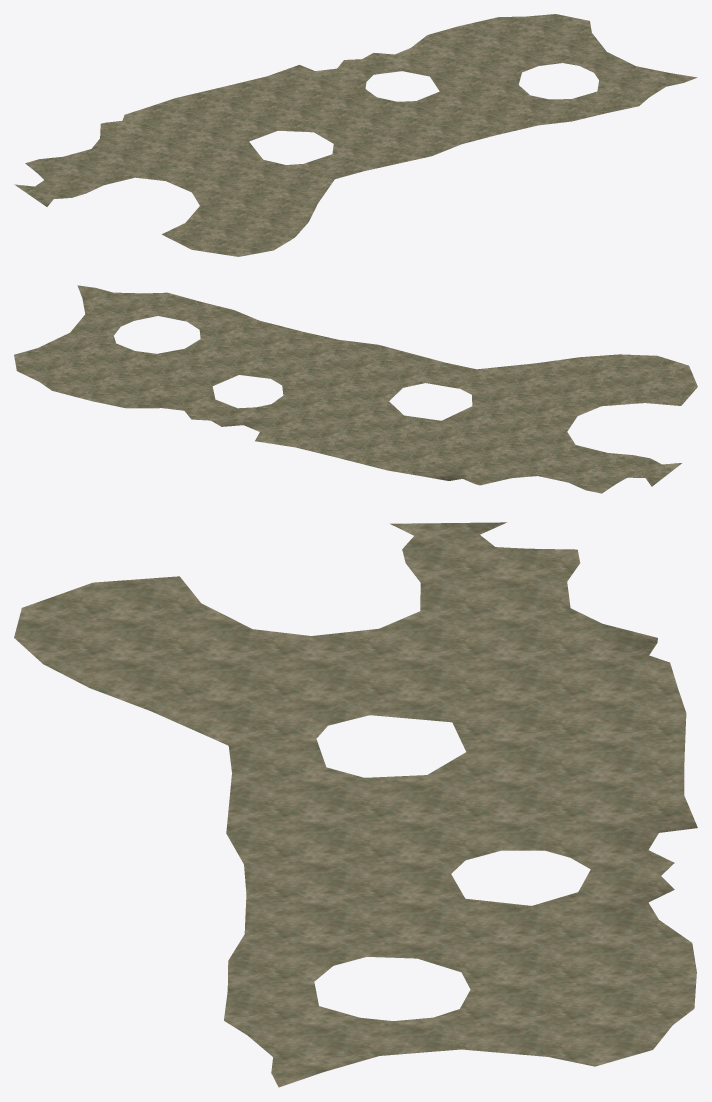
Rendered from EKH_GROTTO_PS_GR_LINE02.fbx.
3 views of the same model, one above another, from view 1: azimuth 30°, elevation 25°; view 2: azimuth 150°, elevation 25°; view 3: azimuth 270°, elevation 25° (orthographic). The views are drawn at different scales.
Visible parts, largest first — view 1: EKH_GROTTO_PS_GR_LINE02; view 2: EKH_GROTTO_PS_GR_LINE02; view 3: EKH_GROTTO_PS_GR_LINE02.
Part boxes in pixels (<box>): EKH_GROTTO_PS_GR_LINE02: <box>14,14,697,256</box>; EKH_GROTTO_PS_GR_LINE02: <box>14,285,697,493</box>; EKH_GROTTO_PS_GR_LINE02: <box>14,522,697,1087</box>.
Bounding box in the file's own units: 278985 × 0.0392 × 142695.
1 material, 1 textured.
